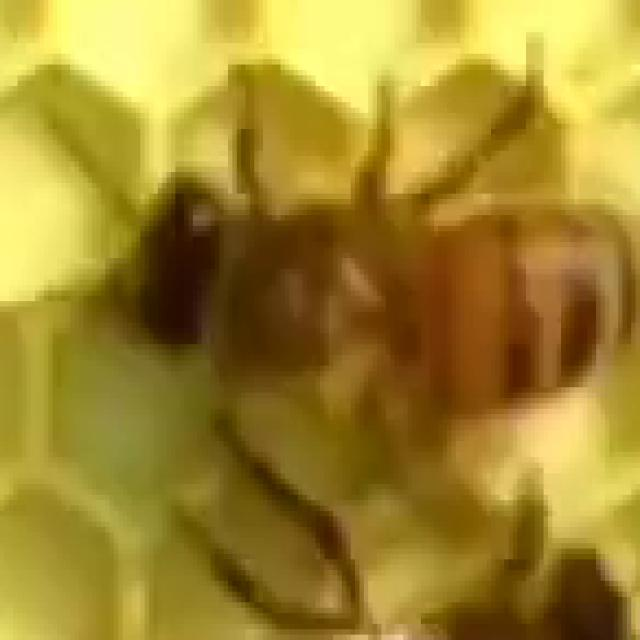honeybee: (98, 113, 591, 492)
